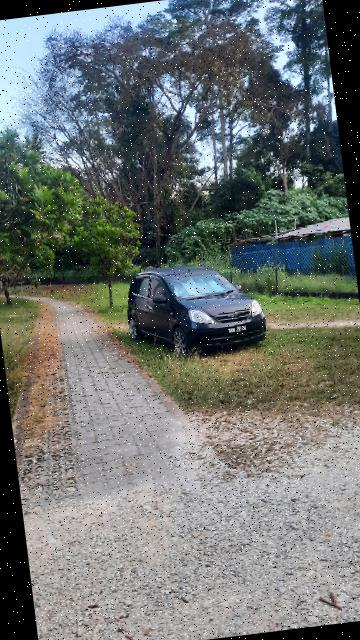License_Plate: (225, 322, 252, 337)
car: (120, 256, 272, 367)
